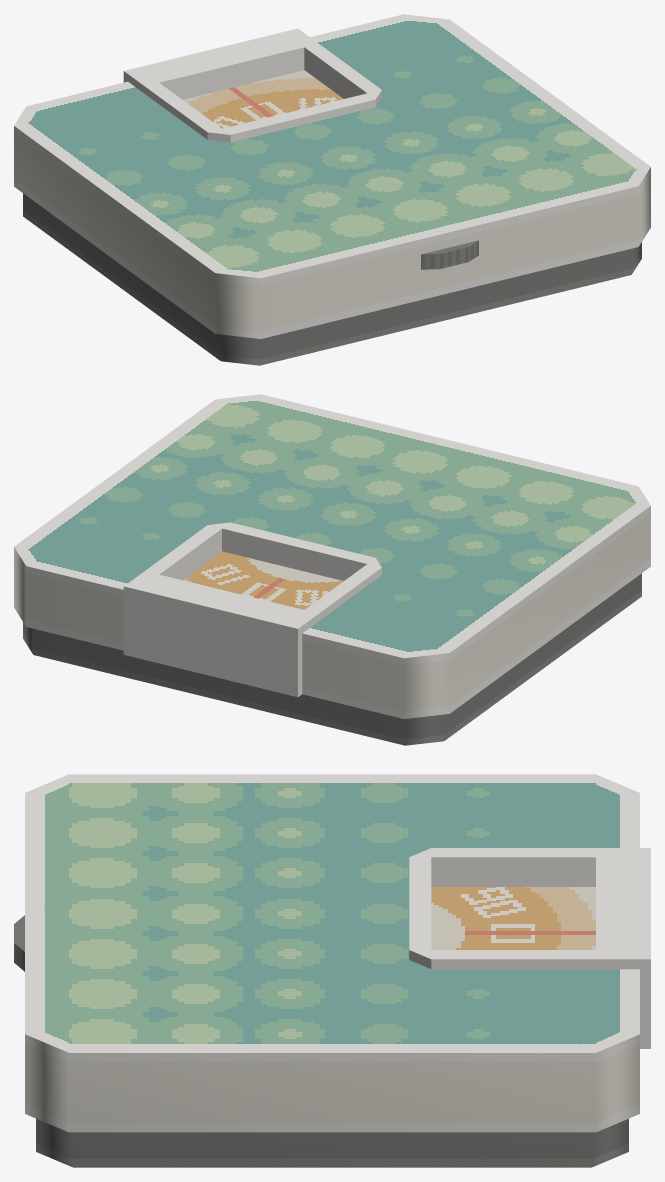
File: 01c0_Healthmeter.glb
3 views of the same model, one above another, from view 1: azimuth 30°, elevation 25°; view 2: azimuth 150°, elevation 25°; view 3: azimuth 270°, elevation 25° (orthographic). The views are drawn at different scales.
Visible parts, largest first — view 1: part_0; view 2: part_0; view 3: part_0.
Boxes of the visible parts, x1,y1,x2,y2 form: part_0: (14, 14, 650, 365); part_0: (14, 394, 650, 745); part_0: (14, 774, 650, 1167).
Size of the model in its own units: 0.3 by 0.065 by 0.29.
Materials: 1 (1 with a texture image).
